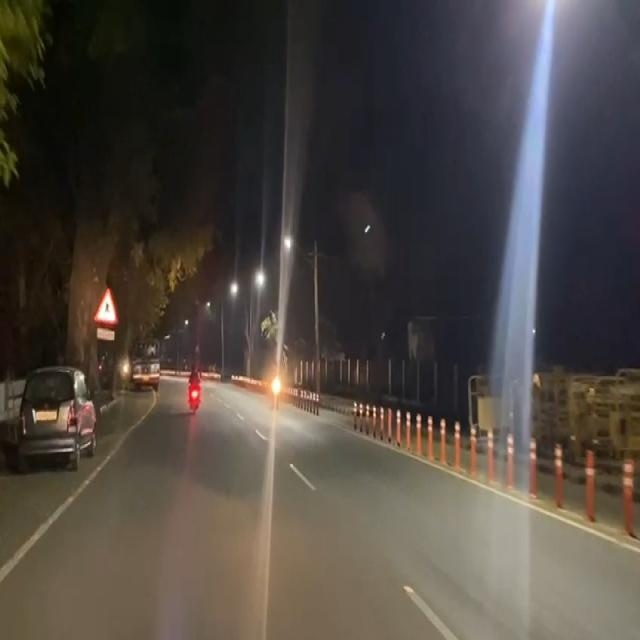bien_nguy_hiem: (94, 282, 118, 326)
